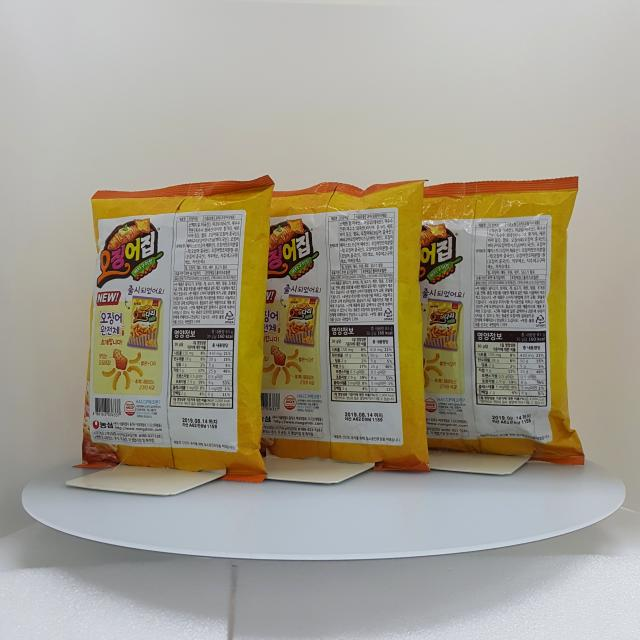-83G: (74, 175, 275, 483), (226, 181, 432, 474), (383, 177, 587, 467)
